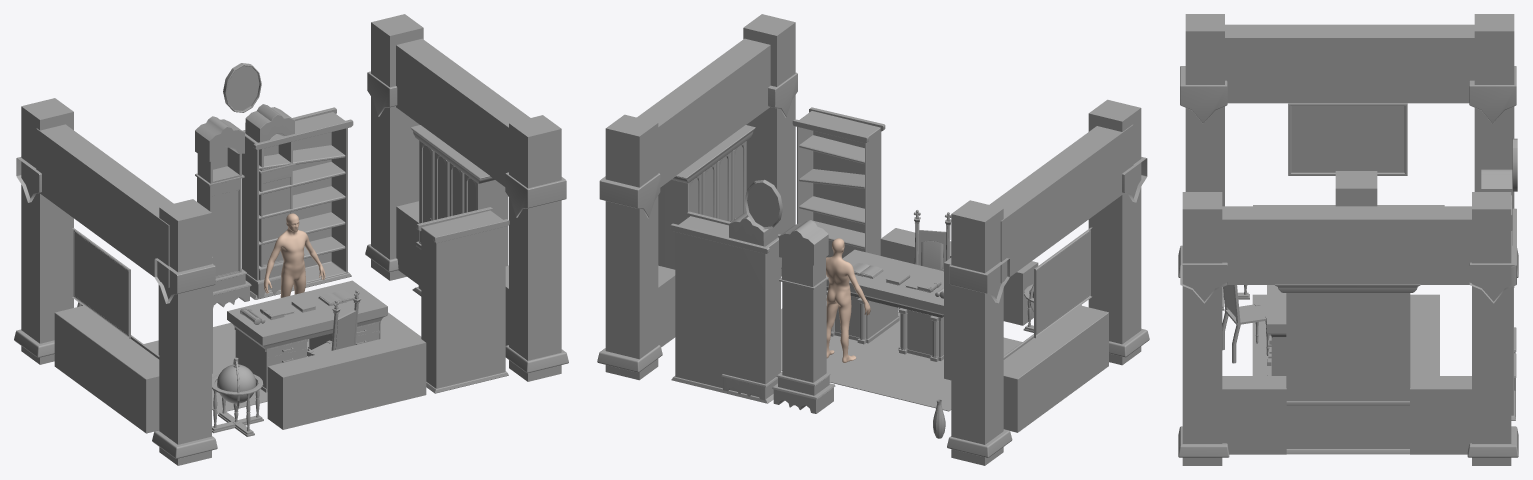
Rendered from roomscale1.fbx.
3 views of the same model, side by side, from view 1: azimuth 30°, elevation 25°; view 2: azimuth 150°, elevation 25°; view 3: azimuth 270°, elevation 25° (orthographic). The views are drawn at different scales.
Parts seen in each view (by area): view 1: pCube219, pCube214, pCube159, pCube227, pCube196, pCube157, pCube171, pCube181, pCube213, pCube225, pCube232, pPlane9 (+24 smaller); view 2: pCube225, pCube181, pCube157, pCube227, pCube171, pCube214, pCube213, pCube219, pCube159, pCube180, pCube222, pPlane9 (+23 smaller); view 3: pCube227, pCube171, polySurface96, pCube219, pCube181, pPlane9, pCube214, pCube157, polySurface86, pCube197, pCube212, pCube180 (+11 smaller).
Part boxes in pixels (bbox=[...]): pCube219: bbox=[505, 115, 568, 381]; pCube214: bbox=[152, 199, 217, 465]; pCube159: bbox=[421, 210, 505, 388]; pCube227: bbox=[36, 124, 173, 287]; pCube196: bbox=[267, 331, 426, 429]; pCube157: bbox=[14, 98, 73, 364]; pCube171: bbox=[396, 38, 530, 186]; pCube181: bbox=[365, 14, 423, 280]; pCube213: bbox=[54, 305, 159, 433]; pCube225: bbox=[242, 112, 347, 293]; pCube232: bbox=[227, 280, 387, 349]; pPlane9: bbox=[73, 231, 128, 335]; pCube225: bbox=[675, 216, 780, 396]; pCube181: bbox=[597, 114, 662, 380]; pCube157: bbox=[947, 200, 1012, 465]; pCube227: bbox=[989, 124, 1133, 283]; pCube171: bbox=[637, 38, 770, 187]; pCube214: bbox=[1088, 99, 1149, 365]; pCube213: bbox=[1003, 305, 1108, 432]; pCube219: bbox=[743, 14, 797, 276]; pCube159: bbox=[797, 111, 881, 258]; pCube180: bbox=[781, 295, 1022, 411]; pCube222: bbox=[782, 281, 826, 382]; pPlane9: bbox=[1036, 230, 1090, 335]; pCube227: bbox=[1225, 24, 1474, 103]; pCube171: bbox=[1222, 206, 1471, 284]; polySurface96: bbox=[1286, 293, 1410, 401]; pCube219: bbox=[1178, 192, 1229, 465]; pCube181: bbox=[1467, 192, 1518, 465]; pPlane9: bbox=[1291, 106, 1404, 172]; pCube214: bbox=[1178, 14, 1227, 277]; pCube157: bbox=[1469, 14, 1518, 287]; polySurface86: bbox=[1286, 405, 1409, 448]; pCube197: bbox=[1222, 376, 1286, 454]; pCube212: bbox=[1410, 376, 1471, 454]; pCube180: bbox=[1252, 294, 1439, 375].
Size of the model in its own units: 1145 by 681 by 819.
